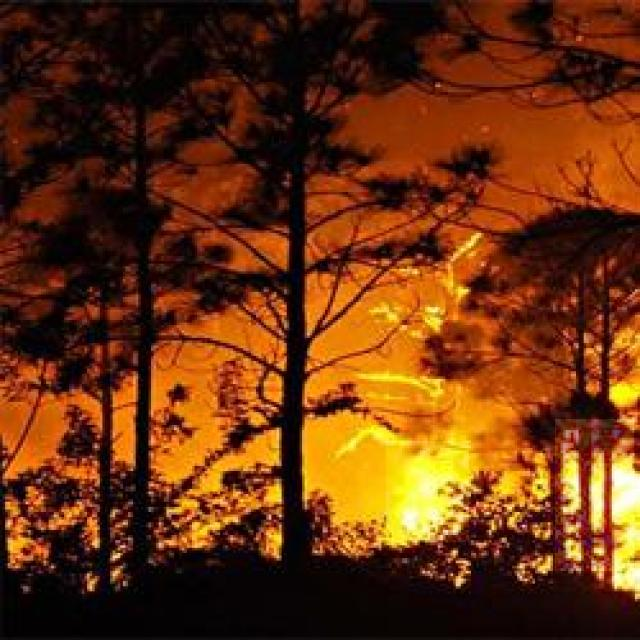Fire: (555, 419, 634, 571), (386, 441, 469, 542)
